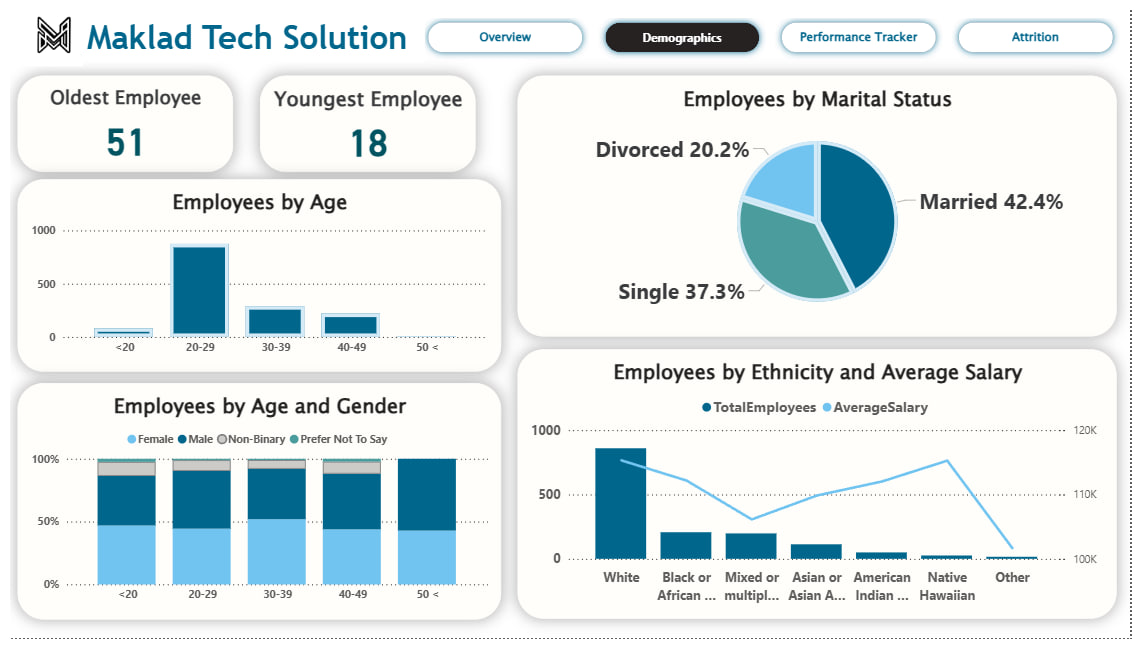

What the dashboard file says about the page in this screenshot:
{"tool":"powerbi","page":{"name":"Demographics","canvas":[1280,720],"ordinal":1},"visuals":[{"type":"card","title":"Oldest Employee","fields":{"Values":["Max(DimEmployee.Age)"]},"box":[8.8,77.5,246.2,110],"z":0},{"type":"card","title":"Youngest Employee","fields":{"Values":["Min(DimEmployee.Age)"]},"box":[285,77.5,246.2,110],"z":1000},{"type":"clusteredColumnChart","title":"Employees by Age","fields":{"Y":["_Measures.TotalEmployees"],"Category":["DimEmployee.AgeBins"]},"box":[8.8,195,552.5,220],"z":2000},{"type":"hundredPercentStackedColumnChart","title":"Employees by Age and Gender","fields":{"Category":["DimEmployee.AgeBins"],"Y":["_Measures.TotalEmployees"],"Series":["DimEmployee.Gender"]},"box":[8.8,428.8,552.5,270],"z":3000},{"type":"pieChart","title":"Employees by Marital Status","fields":{"Category":["DimEmployee.MaritalStatus"],"Y":["CountNonNull(DimEmployee.EmployeeID)"]},"box":[580,77.5,685,298.8],"z":4000},{"type":"lineClusteredColumnComboChart","title":"Employees by Ethnicity and Average Salary","fields":{"Y":["_Measures.TotalEmployees"],"Category":["DimEmployee.Ethnicity"],"Y2":["_Measures.AverageSalary"]},"box":[580,390,685,308.3],"z":5000},{"type":"pageNavigator","box":[470,8.8,800,50],"z":8000},{"type":"image","box":[0,0,100,66.5],"z":8001},{"type":"textbox","box":[83,6.5,391.5,55],"z":9000}]}

Visuals, with their boxes in screenshot pixels (x1, y1, x2, y2), scaled from the page's 1280x720 canvas onto the 1145x649 screenshot:
"Oldest Employee" card: 8:70:228:169
"Youngest Employee" card: 255:70:475:169
"Employees by Age" clusteredColumnChart: 8:176:502:374
"Employees by Age and Gender" hundredPercentStackedColumnChart: 8:387:502:630
"Employees by Marital Status" pieChart: 519:70:1132:339
"Employees by Ethnicity and Average Salary" lineClusteredColumnComboChart: 519:352:1132:629
pageNavigator: 420:8:1136:53
image: 0:0:89:60
textbox: 74:6:424:55
